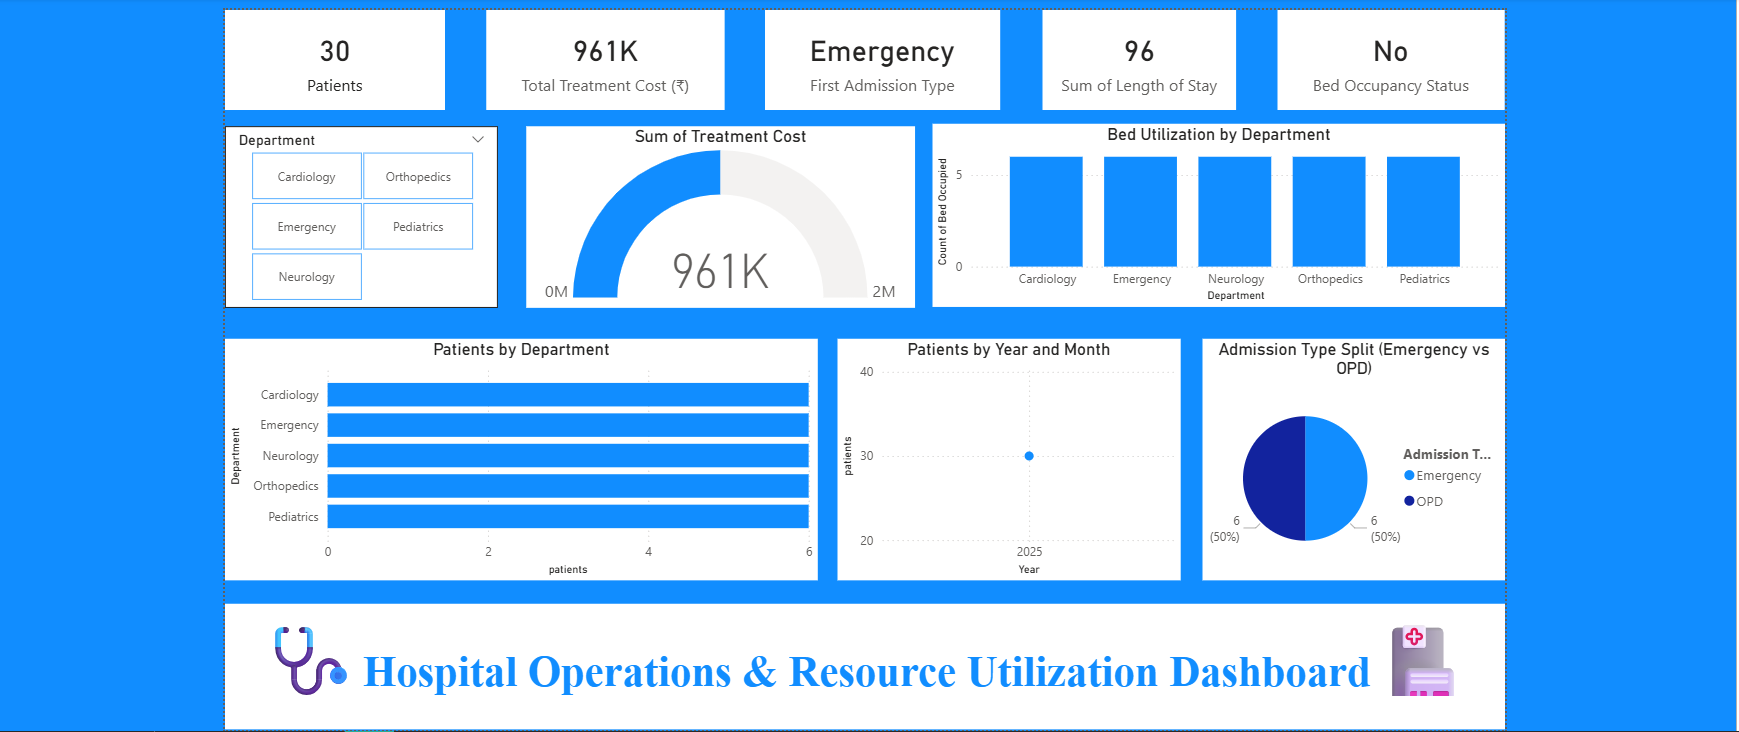

This screenshot's page, from the dashboard's own definition file:
{"tool":"powerbi","page":{"name":"Page 1","canvas":[1280,720],"ordinal":0},"visuals":[{"type":"card","title":"Bed Occupancy Status","fields":{"Values":["Min(hospital_operations_data.Bed Occupied)"]},"box":[1052.9,0,227.1,100],"z":0},{"type":"card","fields":{"Values":["Sum(hospital_operations_data.Treatment Cost)"]},"box":[261.4,0,238.6,100],"z":1000},{"type":"card","fields":{"Values":["Sum(hospital_operations_data.Length of Stay)"]},"box":[817.5,0,193.8,100],"z":2000},{"type":"card","fields":{"Values":["hospital_operations_data.patients"]},"box":[0,0,220,100],"z":3000},{"type":"card","fields":{"Values":["Min(hospital_operations_data.Admission Type)"]},"box":[540,0,235,100],"z":4000},{"type":"lineChart","fields":{"Category":["hospital_operations_data.Admission Date.Variation.Date Hierarchy.Year","hospital_operations_data.Admission Date.Variation.Date Hierarchy.Month","hospital_operations_data.Admission Date.Variation.Date Hierarchy.Day"],"Y":["hospital_operations_data.patients"]},"box":[612.9,328.6,342.9,241.4],"z":5000},{"type":"pieChart","title":"Admission Type Split (Emergency vs OPD)","fields":{"Category":["hospital_operations_data.Admission Type"],"Y":["hospital_operations_data.Emergency Patients"]},"box":[977.1,328.6,302.9,241.4],"z":6000},{"type":"clusteredBarChart","fields":{"Y":["hospital_operations_data.patients"],"Category":["hospital_operations_data.Department"]},"box":[0,328.6,592.9,241.4],"z":7000},{"type":"clusteredColumnChart","title":"Bed Utilization by Department","fields":{"Category":["hospital_operations_data.Department"],"Y":["CountNonNull(hospital_operations_data.Bed Occupied)"]},"box":[707.1,114.3,572.9,182.9],"z":8000},{"type":"gauge","fields":{"Y":["Sum(hospital_operations_data.Treatment Cost)"]},"box":[301.4,115.7,388.6,181.4],"z":9000},{"type":"textbox","box":[0,594.3,1280,125.7],"z":10000},{"type":"slicer","fields":{"Values":["hospital_operations_data.Department"]},"box":[0,115.7,272.9,181.4],"z":11000}]}

Visuals, with their boxes on the page's 1280x720 design canvas (x1, y1, x2, y2). These are canvas units, not pixel positions in the 1739x732 screenshot, which may show the page scaled, cropped or inside an application window:
"Bed Occupancy Status" card: {"left": 1053, "top": 0, "right": 1280, "bottom": 100}
card - Sum(hospital_operations_data.Treatment Cost): {"left": 261, "top": 0, "right": 500, "bottom": 100}
card - Sum(hospital_operations_data.Length of Stay): {"left": 818, "top": 0, "right": 1011, "bottom": 100}
card - hospital_operations_data.patients: {"left": 0, "top": 0, "right": 220, "bottom": 100}
card - Min(hospital_operations_data.Admission Type): {"left": 540, "top": 0, "right": 775, "bottom": 100}
lineChart - hospital_operations_data.Admission Date.Variation.Date Hierarchy.Year x hospital_operations_data.Admission Date.Variation.Date Hierarchy.Month: {"left": 613, "top": 329, "right": 956, "bottom": 570}
"Admission Type Split (Emergency vs OPD)" pieChart: {"left": 977, "top": 329, "right": 1280, "bottom": 570}
clusteredBarChart - hospital_operations_data.patients x hospital_operations_data.Department: {"left": 0, "top": 329, "right": 593, "bottom": 570}
"Bed Utilization by Department" clusteredColumnChart: {"left": 707, "top": 114, "right": 1280, "bottom": 297}
gauge - Sum(hospital_operations_data.Treatment Cost): {"left": 301, "top": 116, "right": 690, "bottom": 297}
textbox: {"left": 0, "top": 594, "right": 1280, "bottom": 720}
slicer - hospital_operations_data.Department: {"left": 0, "top": 116, "right": 273, "bottom": 297}
